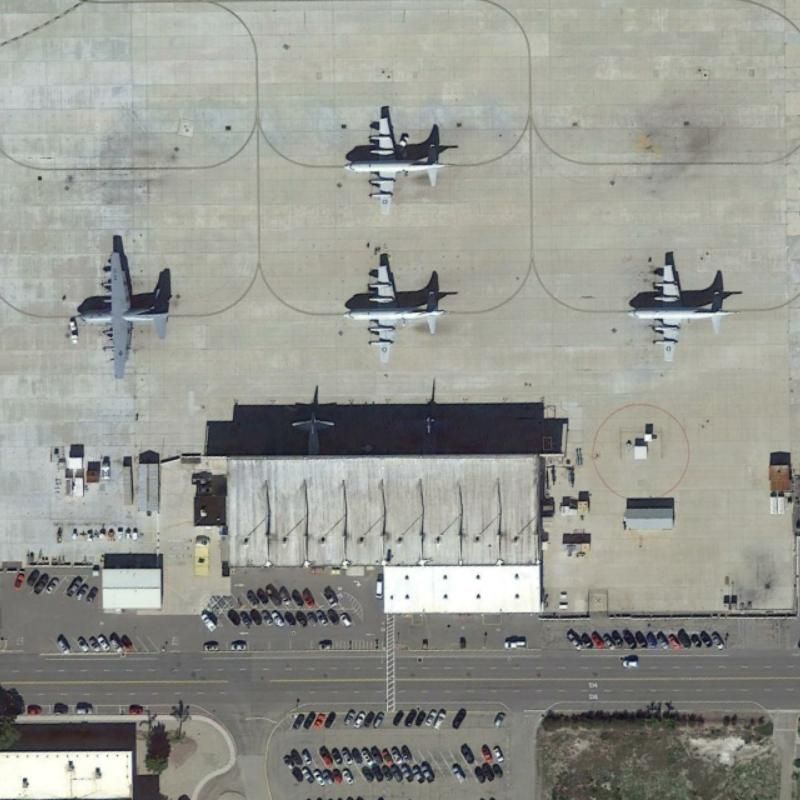A2: (75, 245, 174, 386)
A9: (622, 254, 742, 375), (336, 246, 448, 371), (336, 106, 454, 220)
